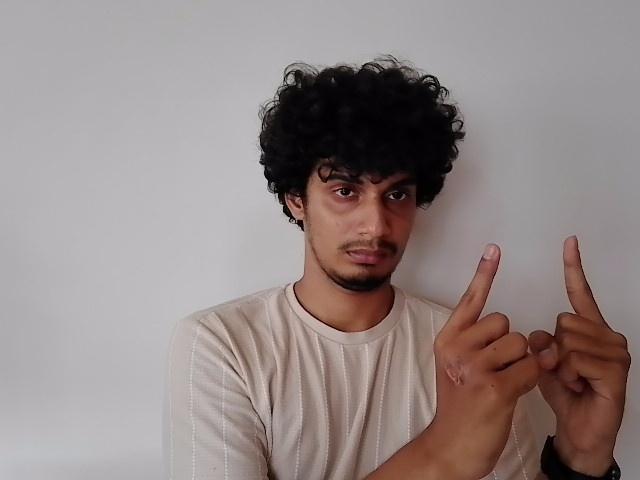play: (436, 232, 635, 448)
